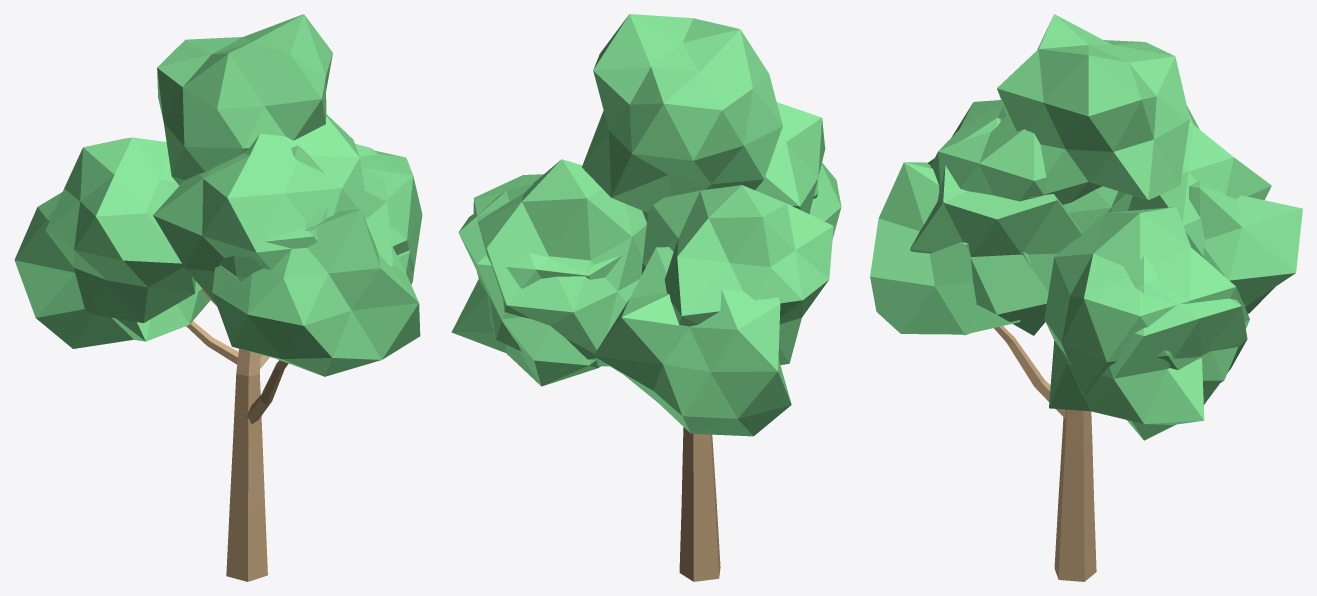
Rendered from Simple_003.fbx.
3 renders of one model, left to right at view 1: azimuth 30°, elevation 25°; view 2: azimuth 150°, elevation 25°; view 3: azimuth 270°, elevation 25°, orthographic. The views are drawn at different scales.
Parts seen in each view (by area): view 1: Simple.003; view 2: Simple.003; view 3: Simple.003.
Part boxes in pixels (x1,y1,x2,y2): Simple.003: (14,14,422,581); Simple.003: (451,14,841,581); Simple.003: (870,14,1302,581).
Size of the model in its own units: 5.58 by 8.24 by 5.88.
